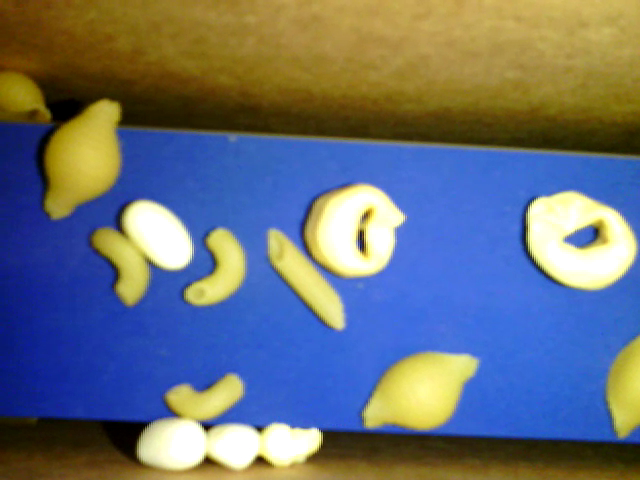elbow: (180, 225, 247, 307), (92, 225, 149, 307), (164, 367, 247, 421)
penne: (268, 229, 348, 331)
shell: (37, 96, 123, 224), (360, 351, 483, 432), (600, 335, 638, 438), (1, 70, 56, 127)
tortellini: (522, 188, 637, 291), (306, 183, 404, 275)
